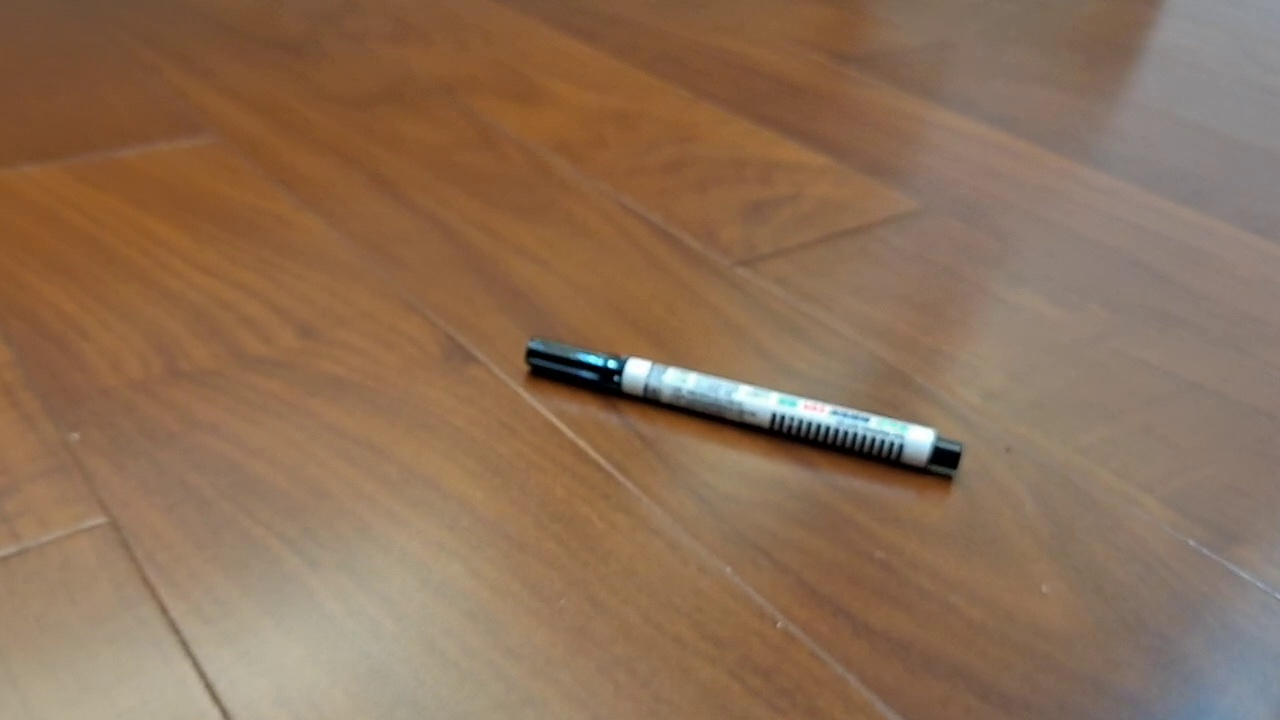pen: (524, 335, 963, 471)
